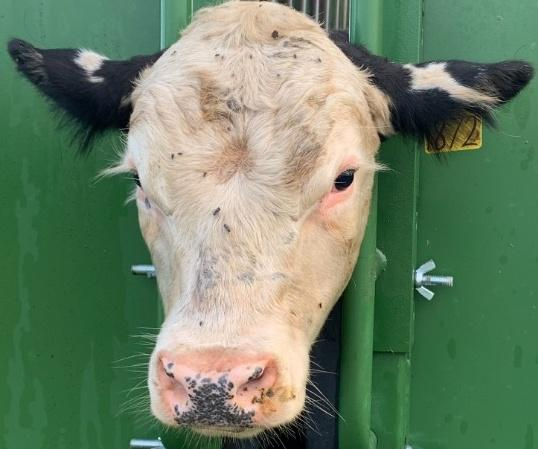muzzles: (143, 345, 316, 442)
